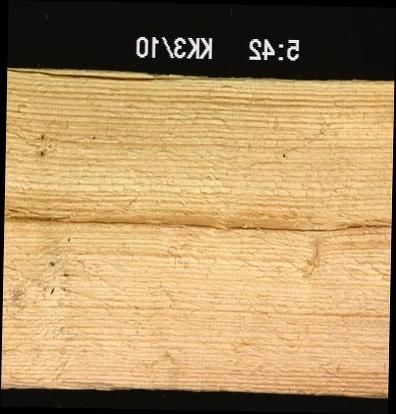small_knot: (298, 239, 322, 277)
split: (3, 214, 221, 226), (224, 220, 390, 232)
